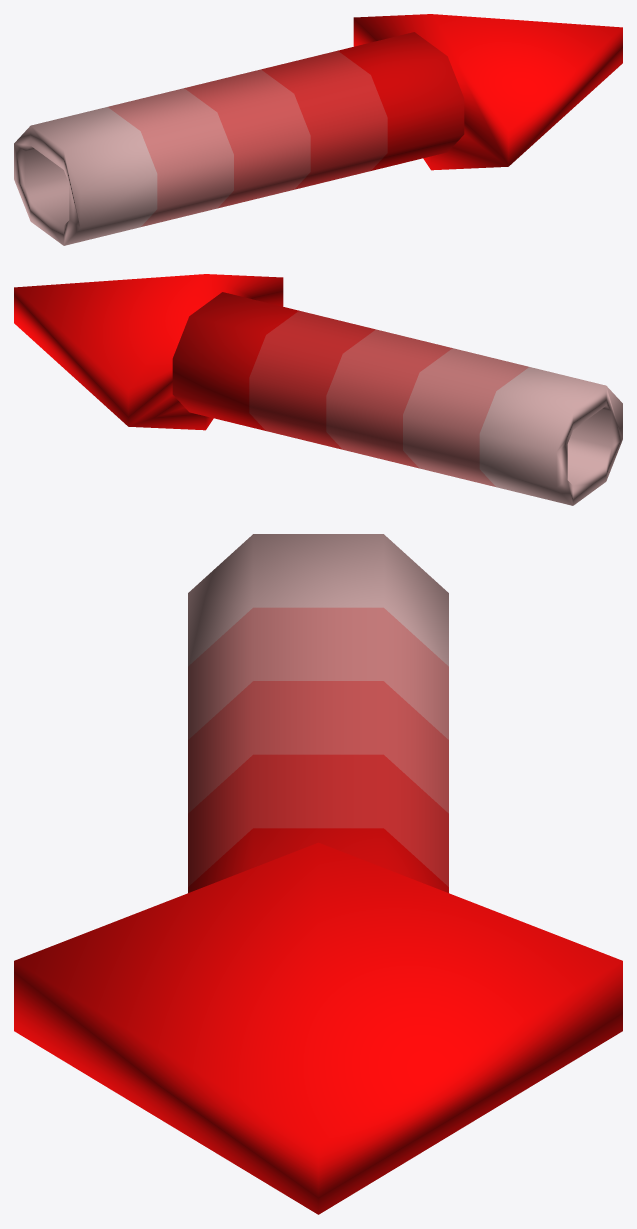
The model's file is player_arrow.fbx.
The picture shows the model from 3 angles, top to bottom: view 1: azimuth 30°, elevation 25°; view 2: azimuth 150°, elevation 25°; view 3: azimuth 270°, elevation 25°; orthographic projection. The views are drawn at different scales.
Visible parts, largest first — view 1: arrow1; view 2: arrow1; view 3: arrow1.
Part boxes in pixels (bbox=[...]): arrow1: bbox=[14, 14, 622, 245]; arrow1: bbox=[14, 274, 622, 505]; arrow1: bbox=[14, 534, 622, 1214].
Bounding box in the file's own units: 1.5 × 0.3891 × 0.7.
